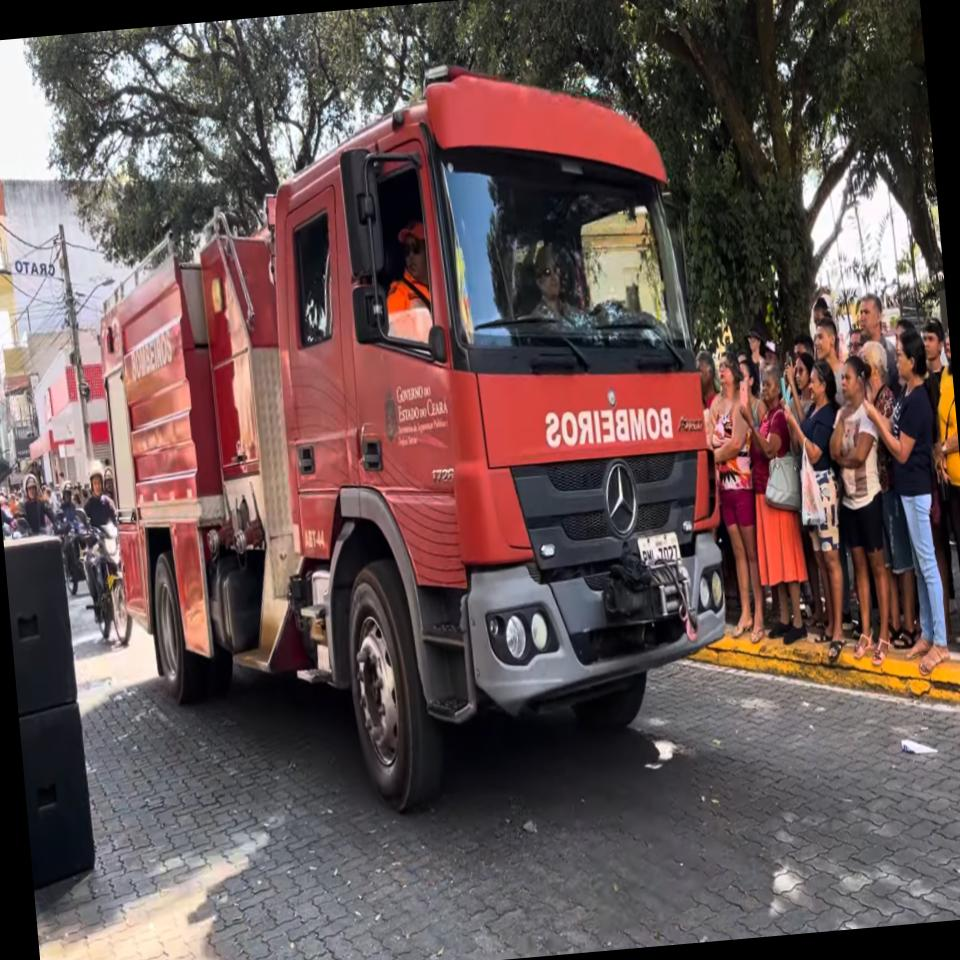viatura: (75, 36, 738, 835)
